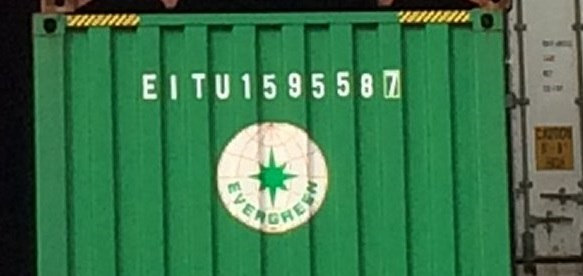container_no_door: (30, 12, 511, 276)
